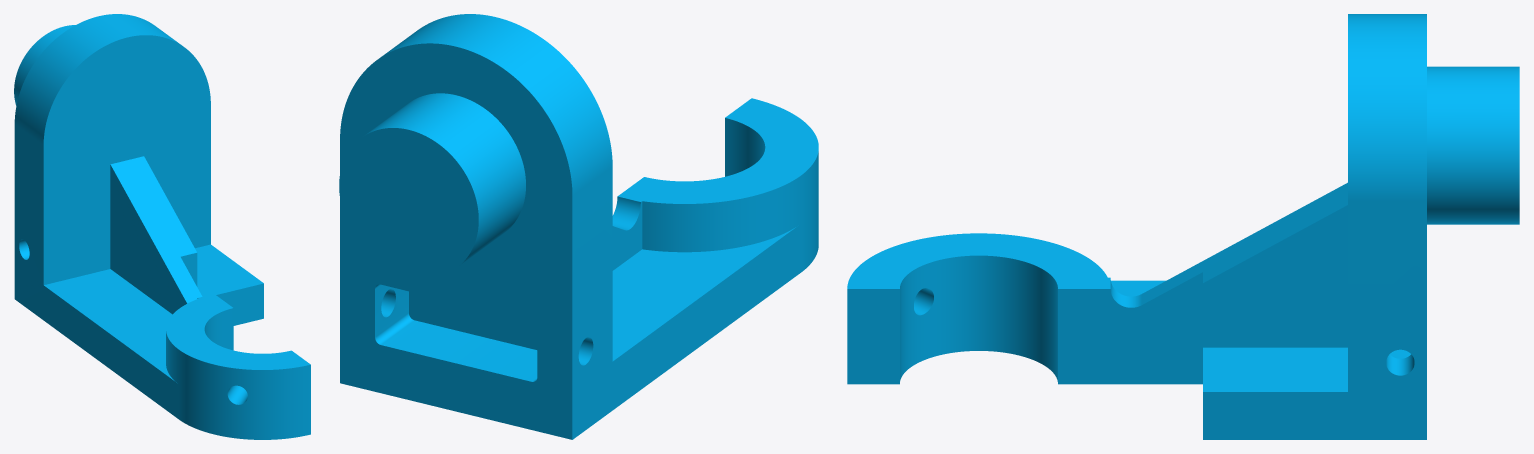
3 views of the same model, side by side, from view 1: azimuth 30°, elevation 25°; view 2: azimuth 150°, elevation 25°; view 3: azimuth 270°, elevation 25° (orthographic). The views are drawn at different scales.
Parts seen in each view (by area): view 1: Pocket.3; view 2: Pocket.3; view 3: Pocket.3.
Part boxes in pixels (bbox=[...]): Pocket.3: bbox=[14, 14, 310, 439]; Pocket.3: bbox=[339, 14, 818, 439]; Pocket.3: bbox=[847, 14, 1519, 439].
Bounding box in the file's own units: 0.318 × 0.477 × 0.812.
